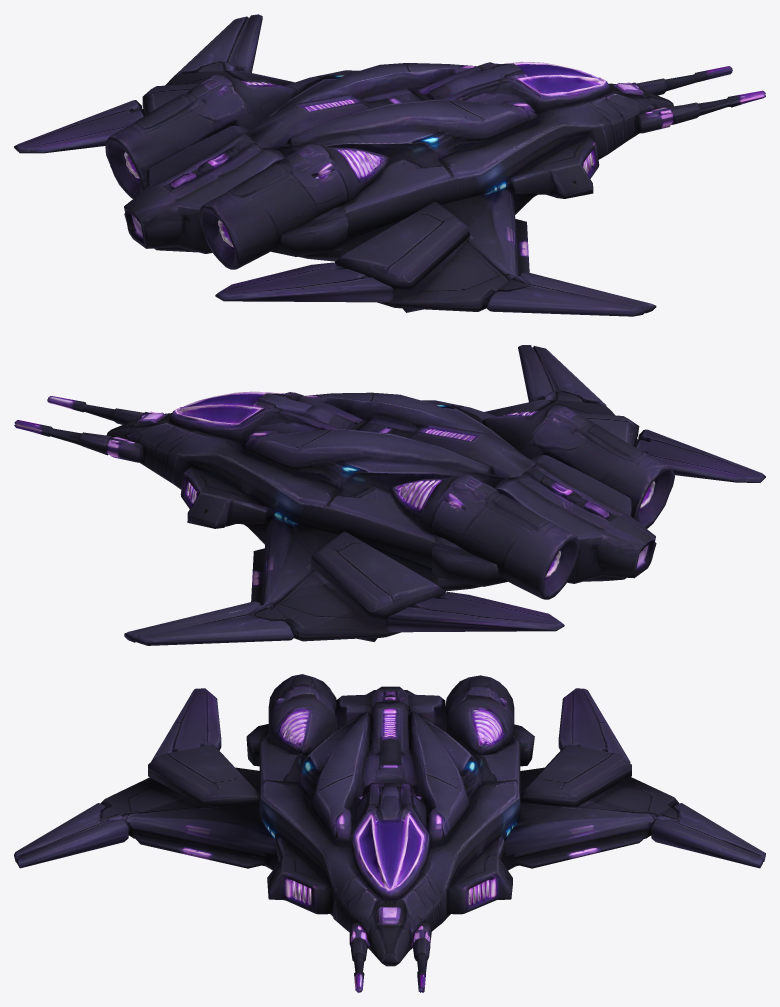
File: enemy_model_02.glb
The picture shows the model from 3 angles, top to bottom: view 1: azimuth 30°, elevation 25°; view 2: azimuth 150°, elevation 25°; view 3: azimuth 270°, elevation 25°; orthographic projection. The views are drawn at different scales.
Parts seen in each view (by area): view 1: tripo_node_b7bee583-0886-44af-a439-5d32482ed206; view 2: tripo_node_b7bee583-0886-44af-a439-5d32482ed206; view 3: tripo_node_b7bee583-0886-44af-a439-5d32482ed206.
Boxes of the visible parts, box(x1,y1,x2,y2) form: tripo_node_b7bee583-0886-44af-a439-5d32482ed206: box(14, 14, 765, 316); tripo_node_b7bee583-0886-44af-a439-5d32482ed206: box(14, 345, 765, 645); tripo_node_b7bee583-0886-44af-a439-5d32482ed206: box(14, 674, 765, 992).
Size of the model in its own units: 7.5 by 1.5 by 8.24.
Materials: 1 (1 with a texture image).
